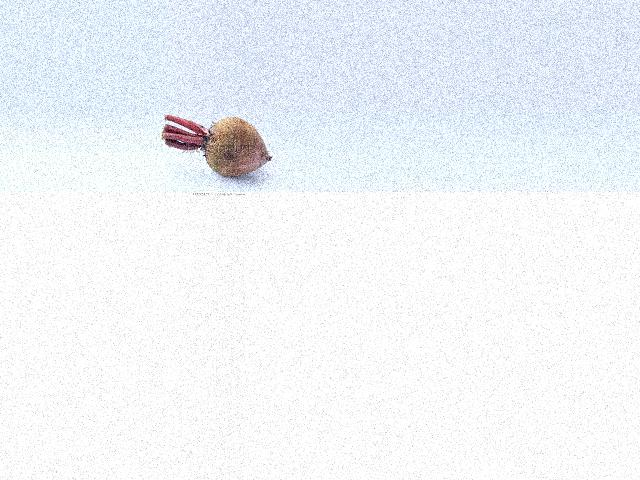beet: (163, 116, 270, 176)
